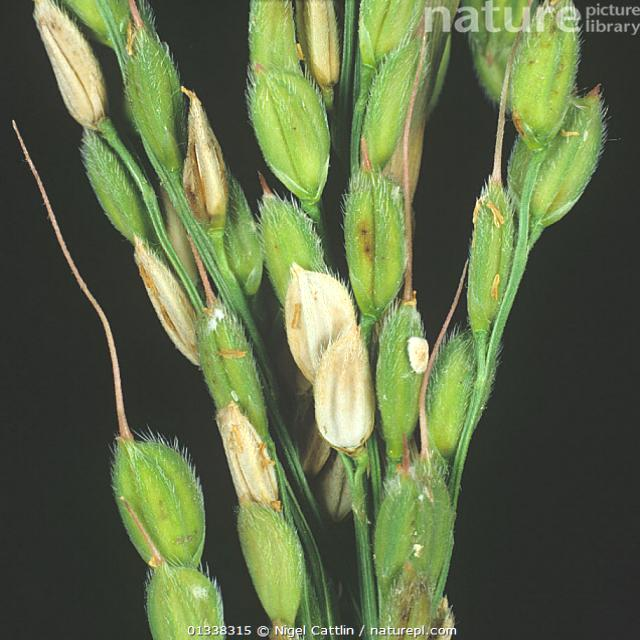Bacterial_Leaf_Blight: (278, 268, 379, 459), (29, 1, 110, 134), (134, 238, 201, 364), (180, 85, 230, 238), (216, 400, 280, 504), (305, 0, 343, 87)
